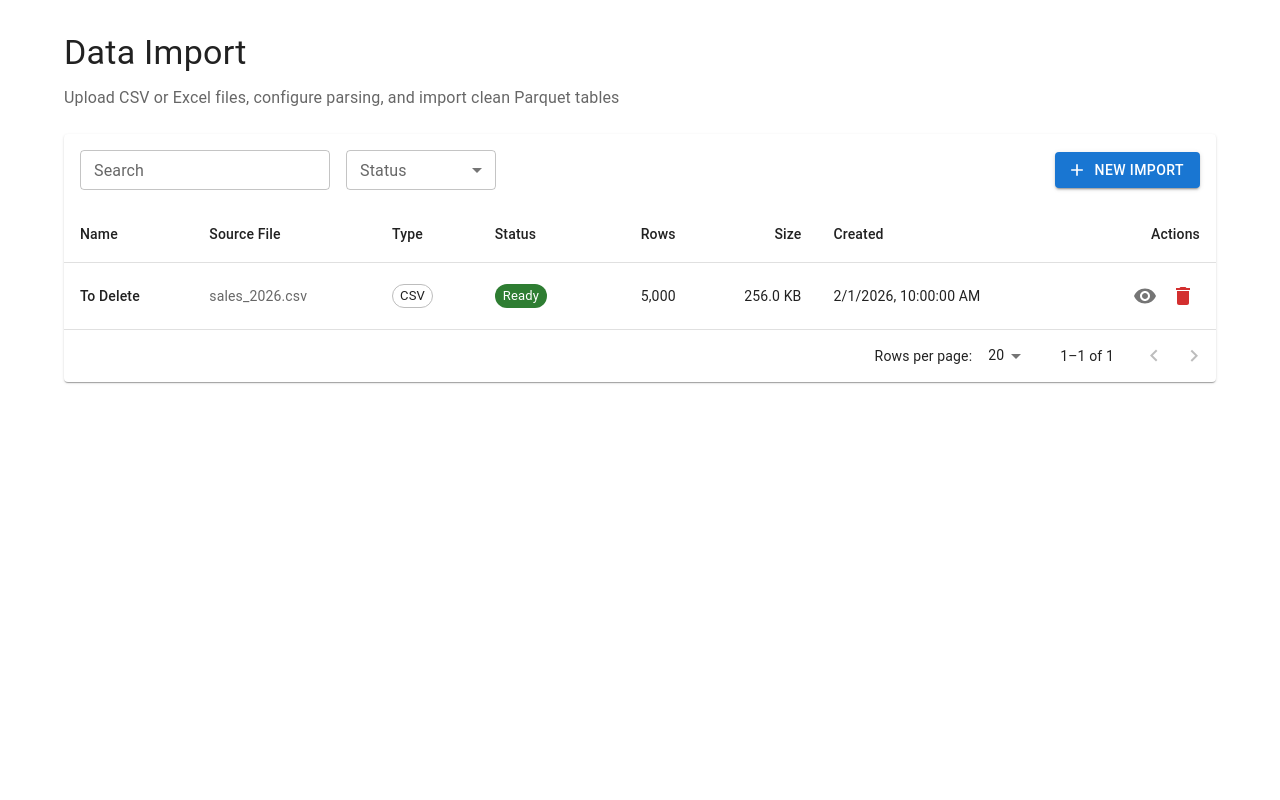
DataImportsPage › Delete flow › closes dialog without deleting when Cancel is clicked
Expected: the text "To Delete" is shown, [80,288,140,304]
Click the button named "Delete import" at (1183,296), box [1166,279,1200,313]
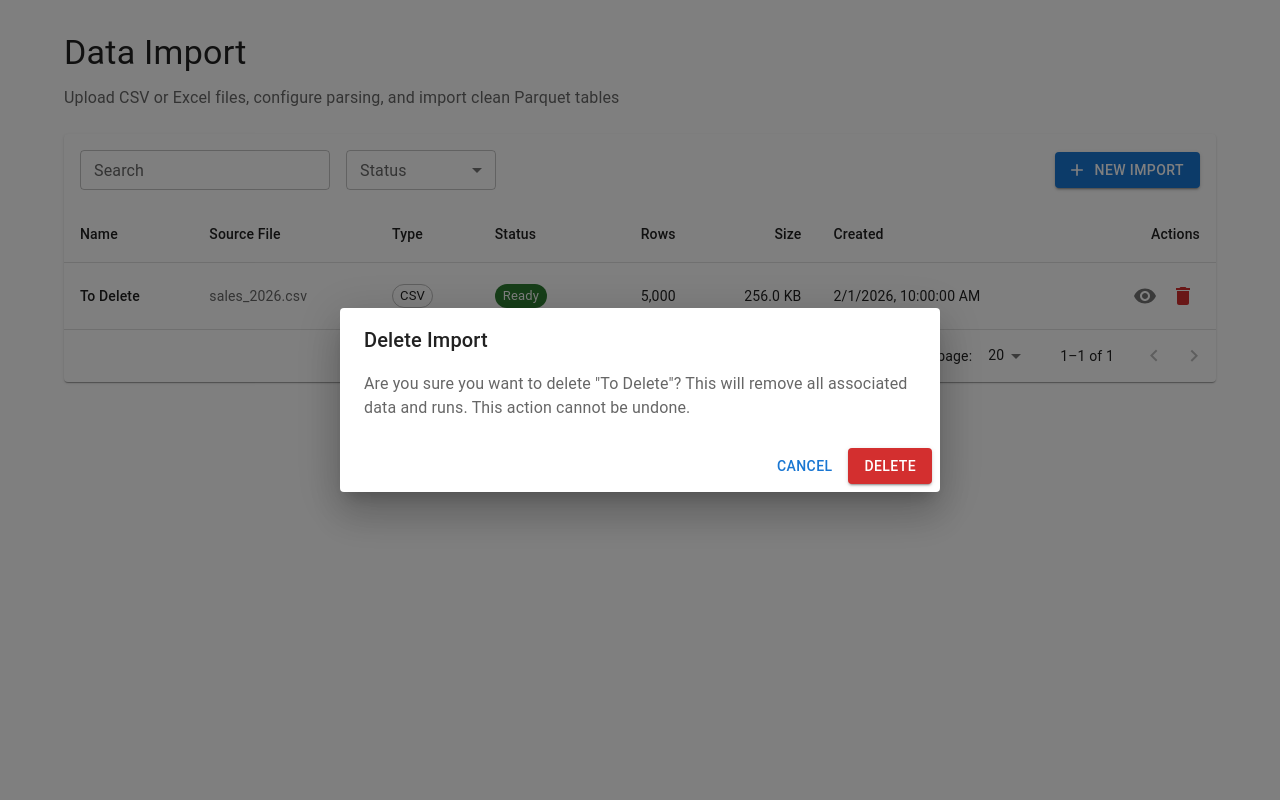
Expected: the heading "Delete Import" is shown, [364,328,488,352]
Click the button "Cancel" at (805,466), box [769,448,840,484]
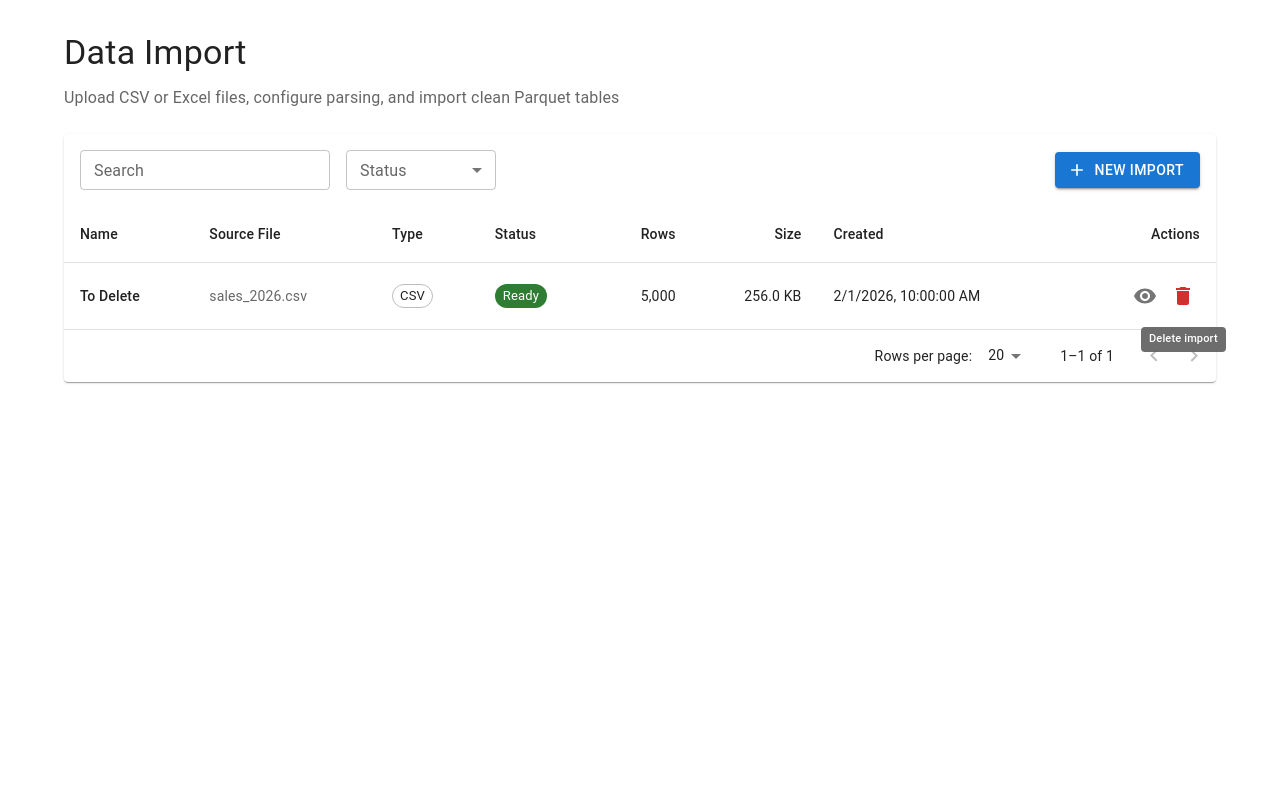
Expected: the dialog is gone
